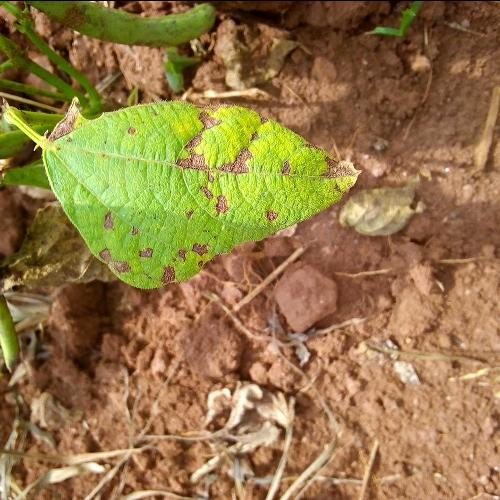hawar: (106, 119, 266, 235), (292, 157, 353, 192), (42, 105, 84, 148)
